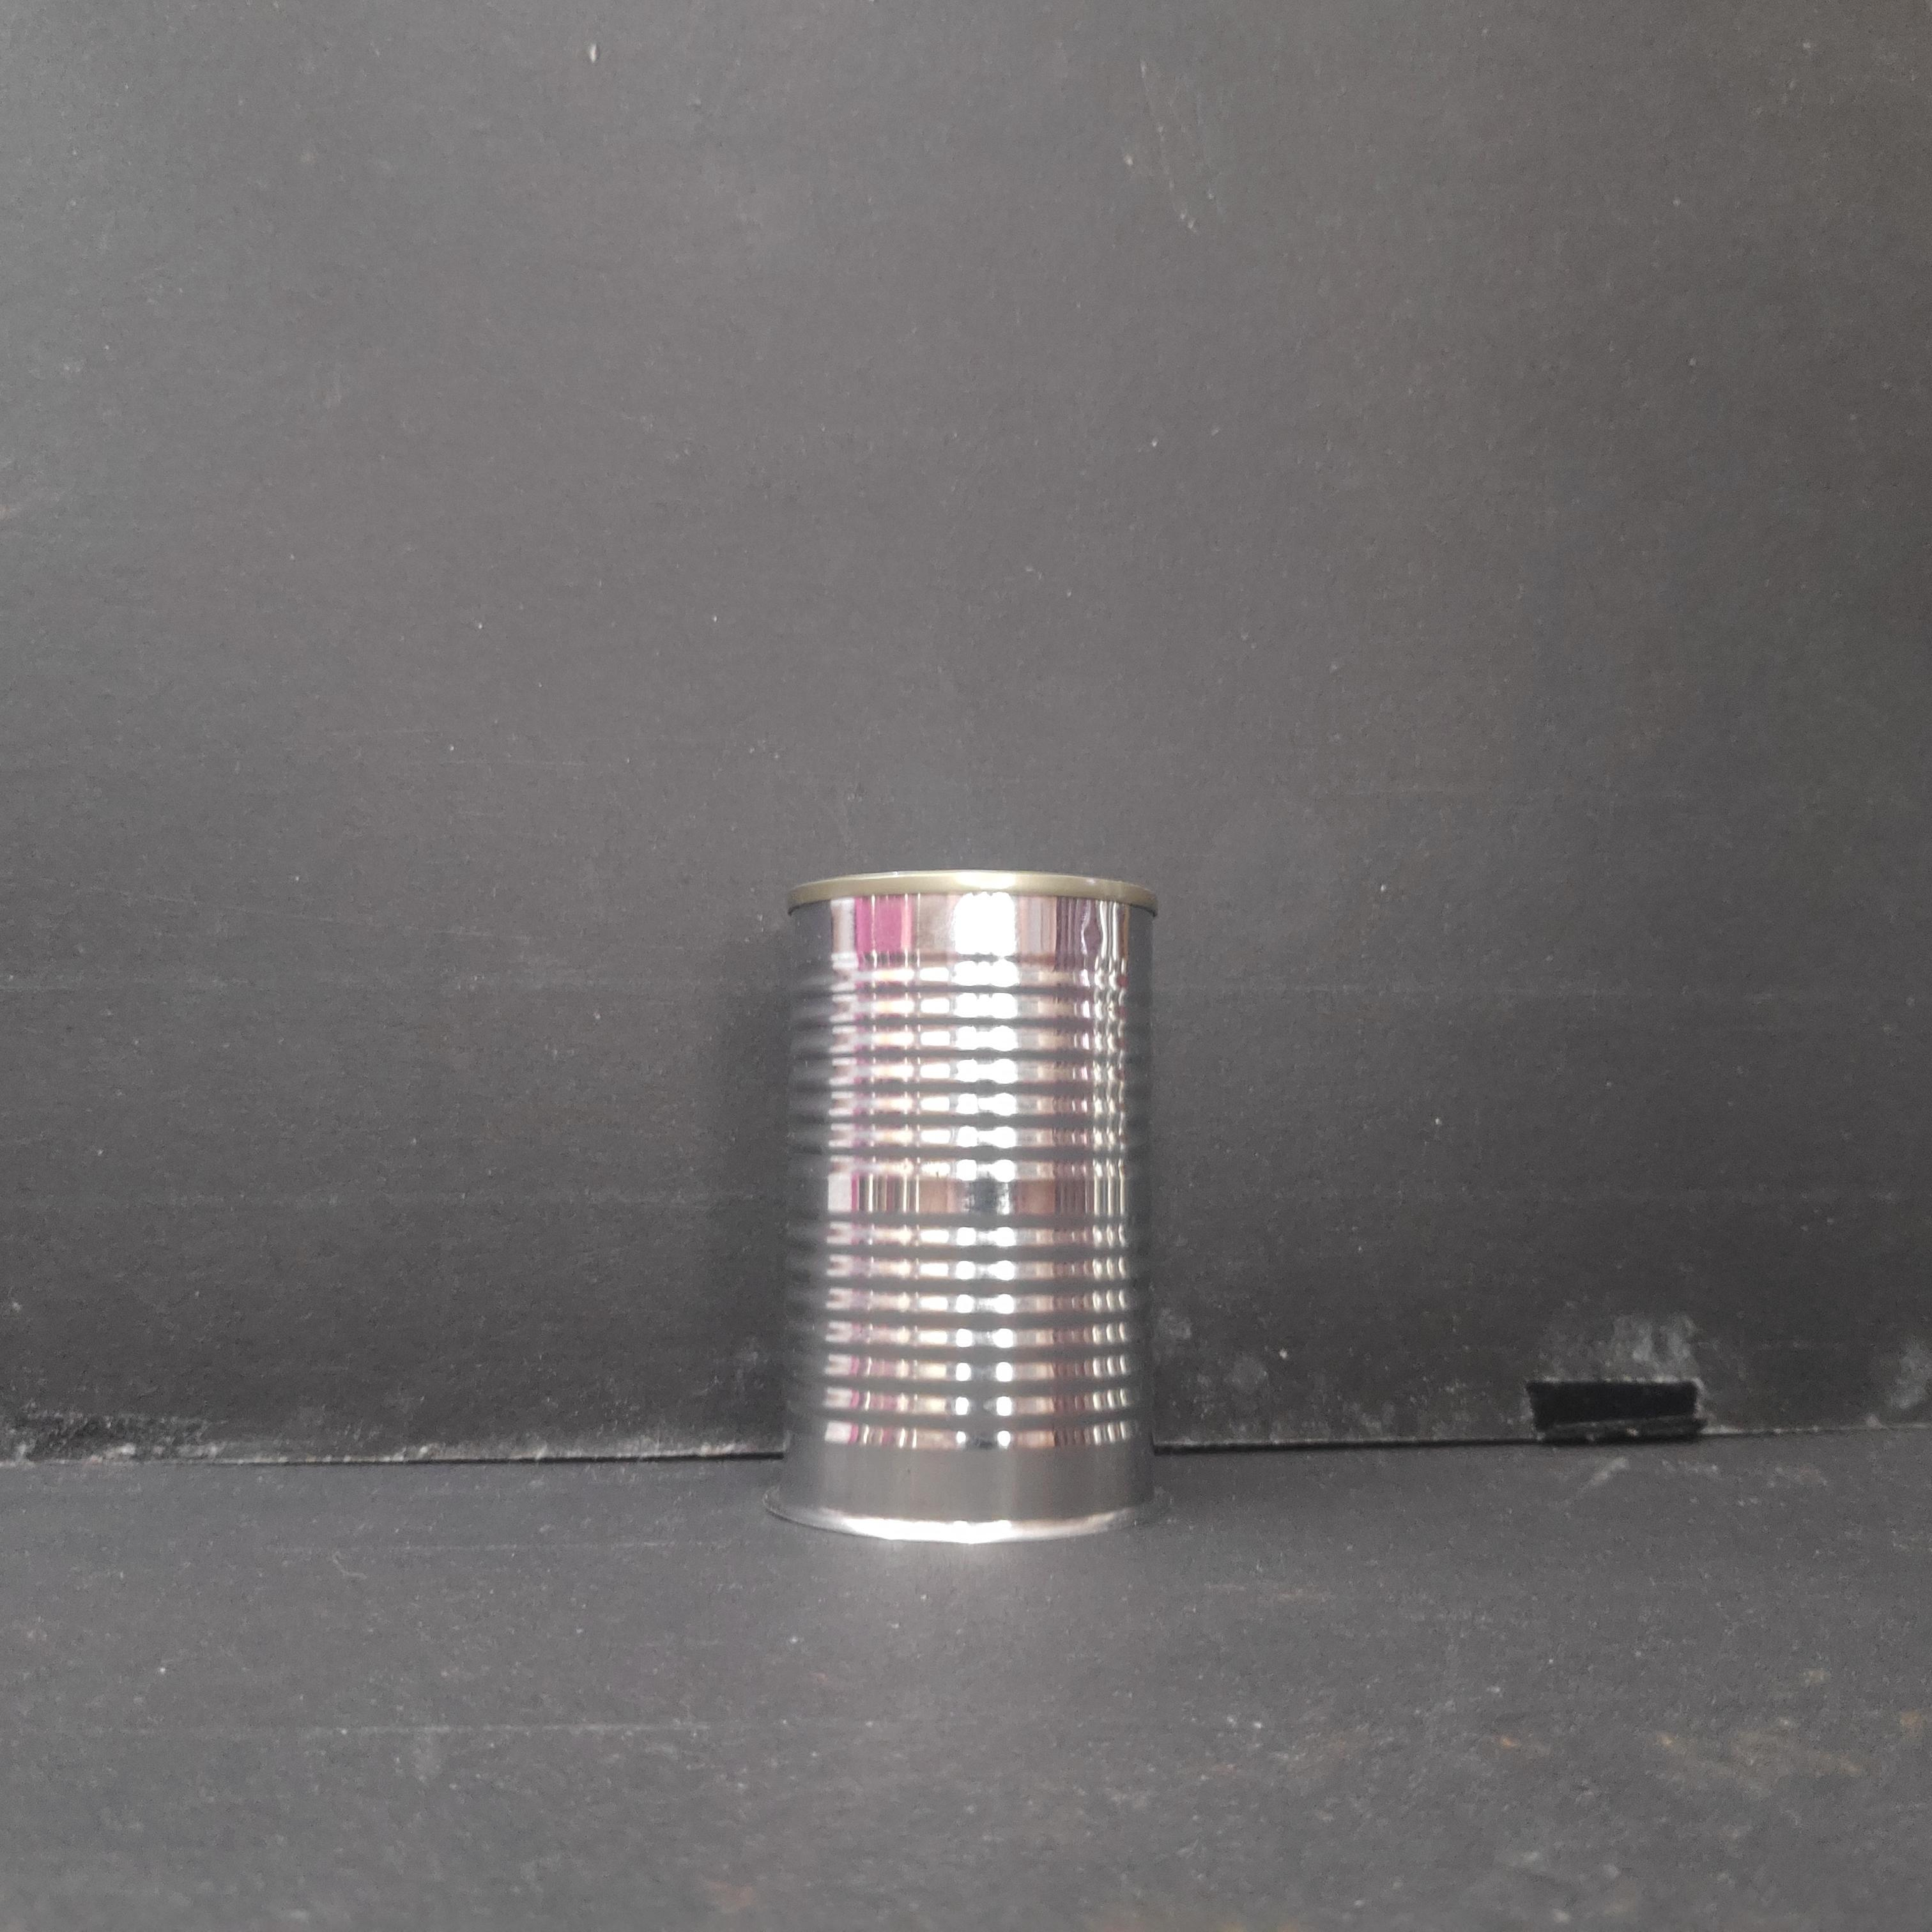No defect: (768, 860, 1170, 1558)
